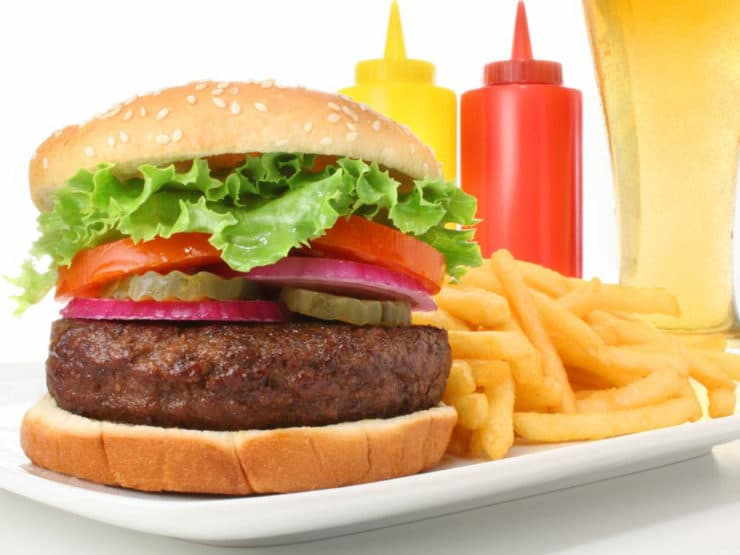hamburger: (9, 90, 472, 525)
